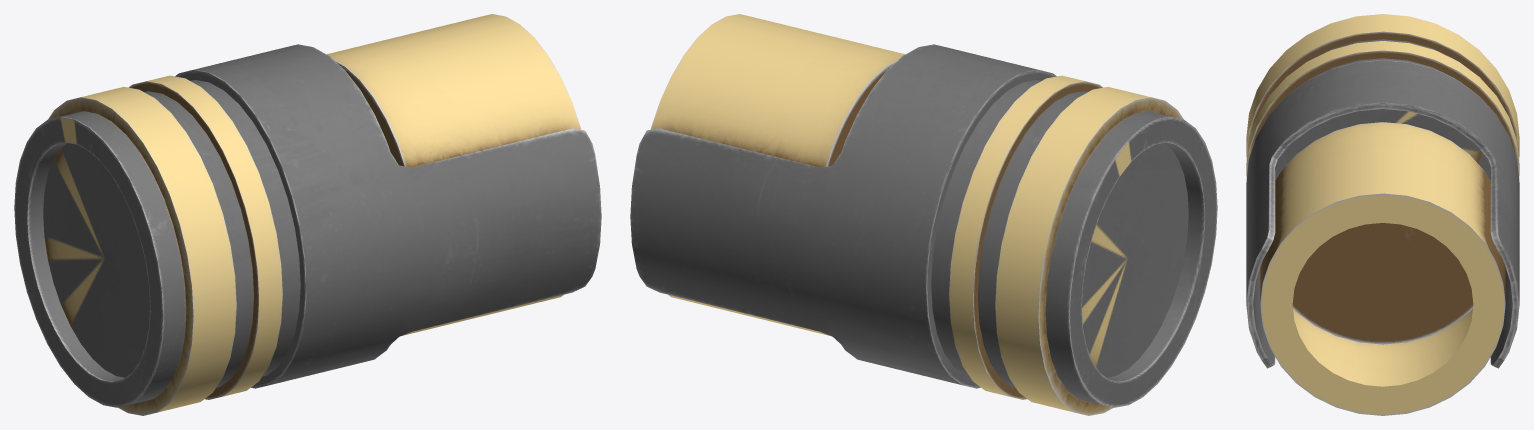
The model's file is pommel_4_c_b.glb.
The picture shows the model from 3 angles, left to right: view 1: azimuth 30°, elevation 25°; view 2: azimuth 150°, elevation 25°; view 3: azimuth 270°, elevation 25°; orthographic projection. The views are drawn at different scales.
Parts seen in each view (by area): view 1: pommel_4_c_b_lod0; view 2: pommel_4_c_b_lod0; view 3: pommel_4_c_b_lod0.
Part boxes in pixels (left/top/right/bottom): pommel_4_c_b_lod0: left=14, top=14, right=601, bottom=415; pommel_4_c_b_lod0: left=630, top=14, right=1217, bottom=415; pommel_4_c_b_lod0: left=1246, top=14, right=1519, bottom=415.
Size of what is drawn, in the model's own units: 0.0492 by 0.0322 by 0.0322.
1 material, 1 textured.
